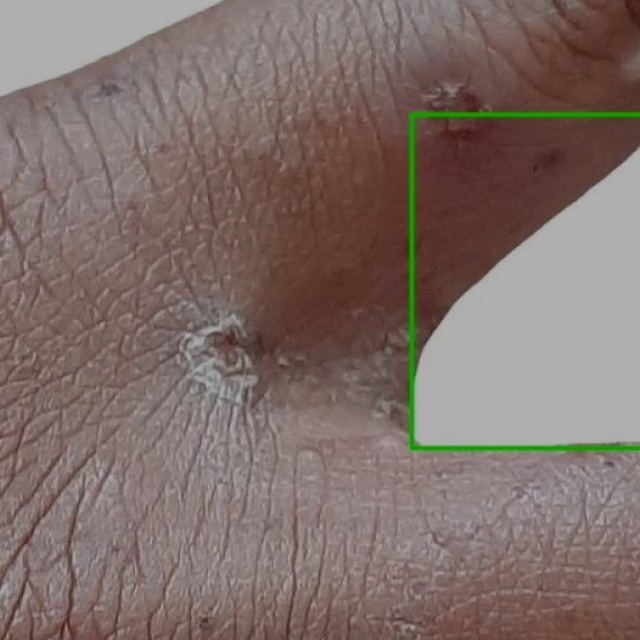Scabies: (412, 114, 639, 448)
